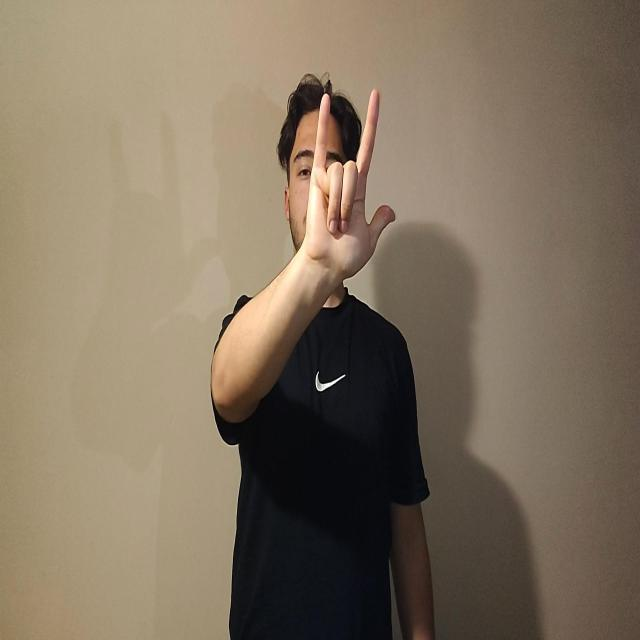iloveyou: (303, 87, 396, 285)
